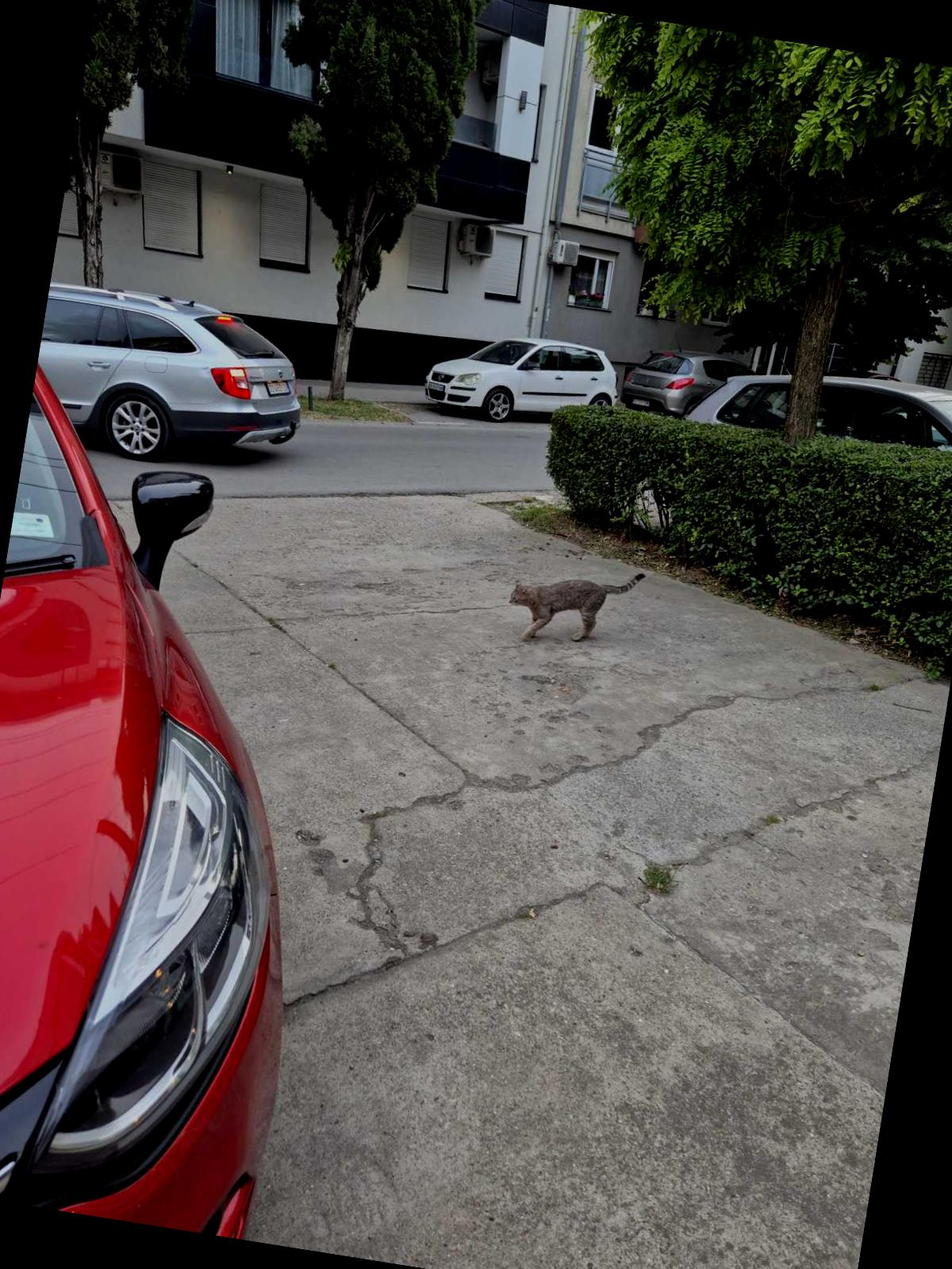macka: (502, 552, 646, 659)
